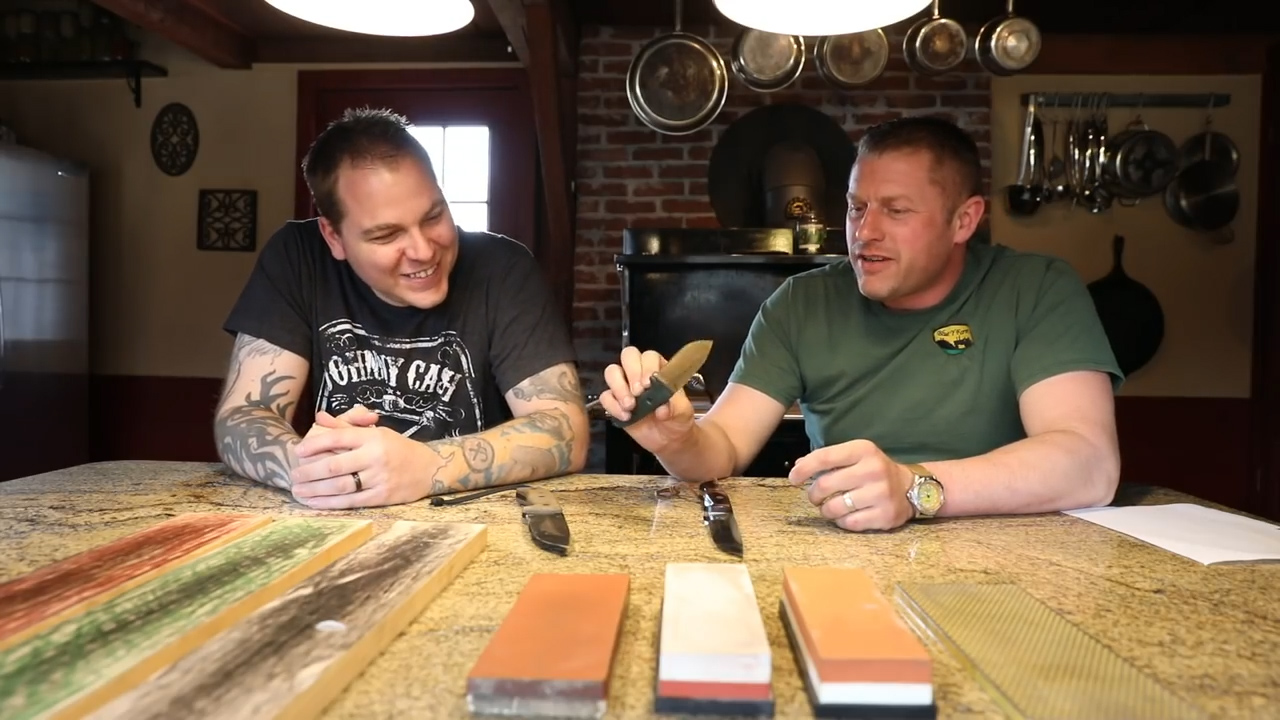knife: (598, 328, 728, 430)
